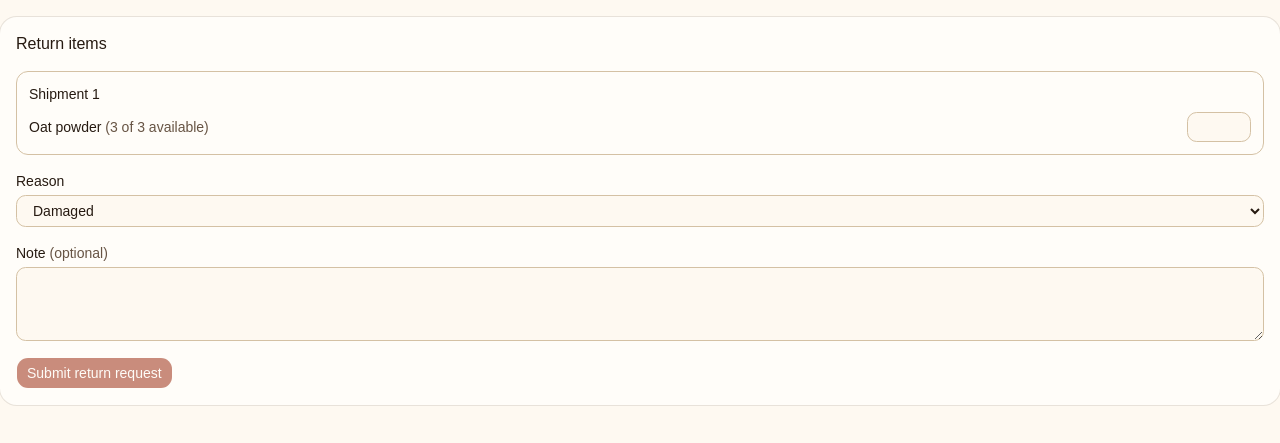
ReturnPanel › rejects markup in note with inline error
Expected: the text "Oat powder" is shown, [29, 119, 101, 135]
In the number field named "Quantity to return for Oat powder": (1219, 127) [1187, 112, 1251, 142], type "1"
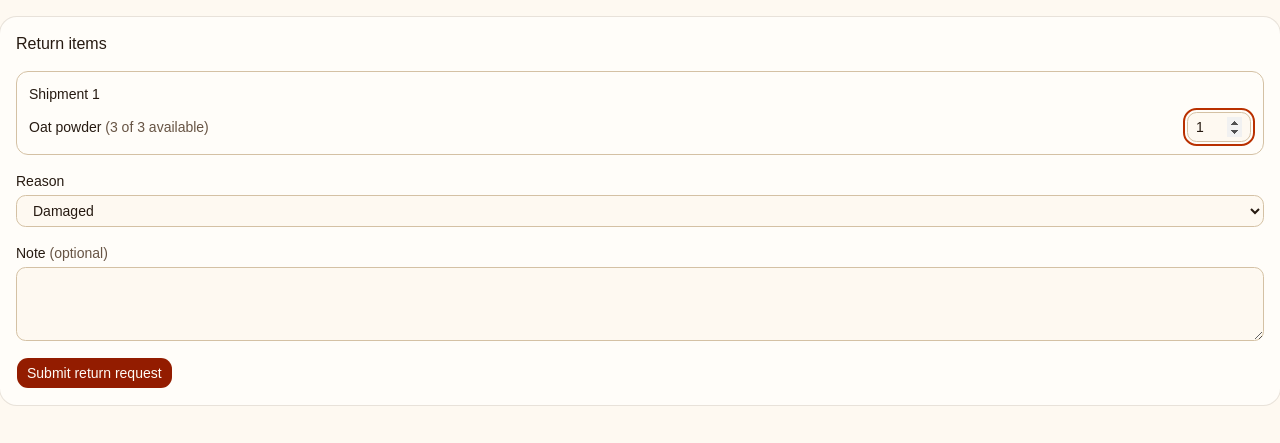
In the text box labelled "Note (optional)": (640, 304) [16, 267, 1264, 341], type "<script>"
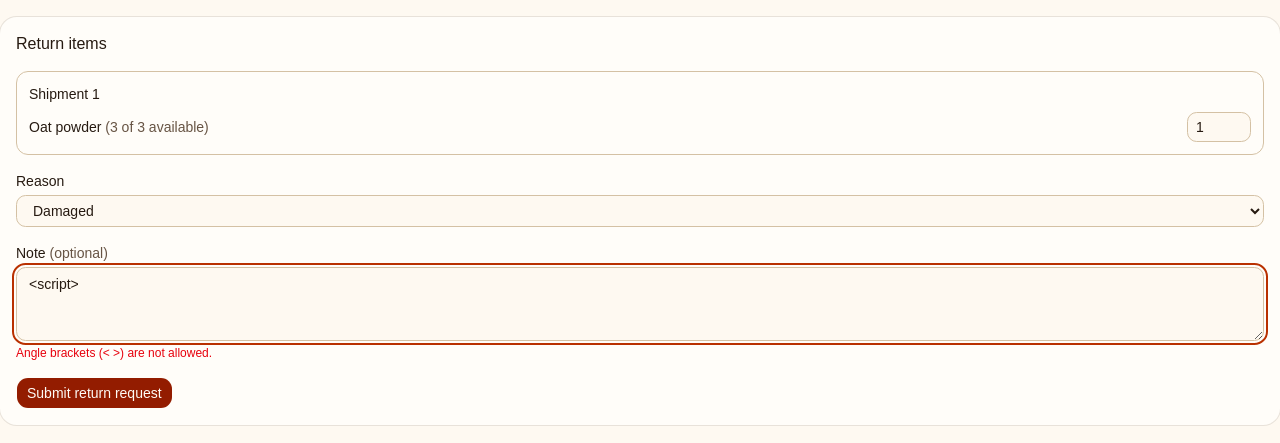
Expected: the text with id "return-note-error" shows "Angle brackets", [16, 346, 212, 360]
